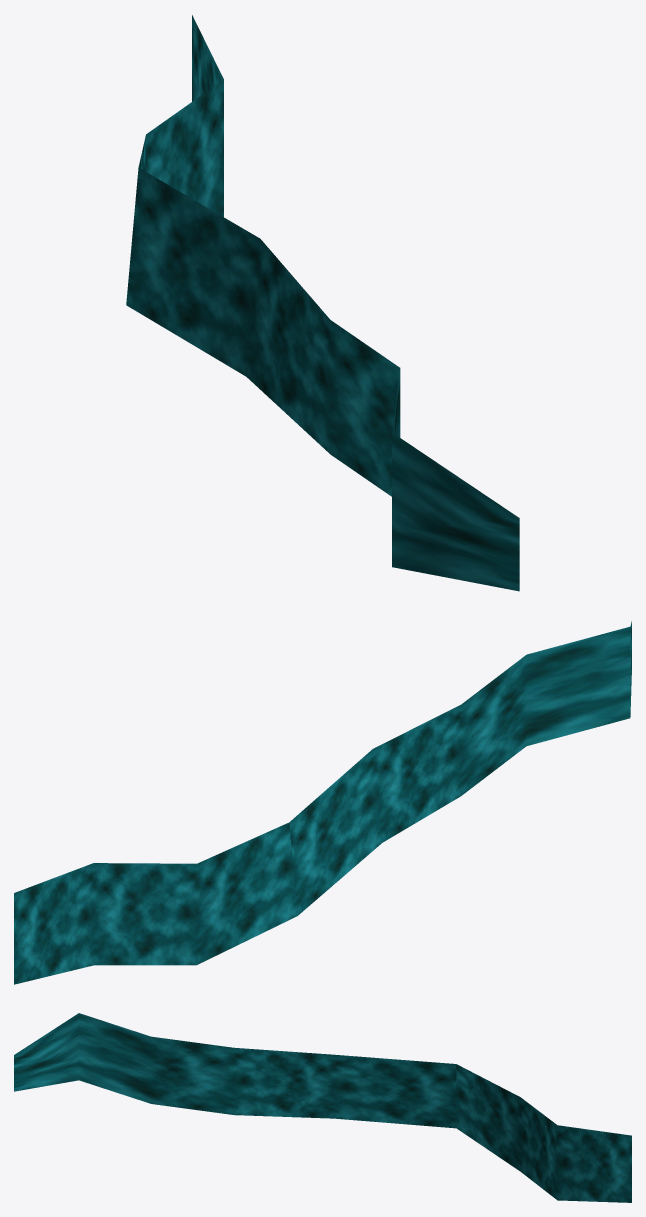
File: MIRKWOOD_FOG_B.fbx
3 views of the same model, one above another, from view 1: azimuth 30°, elevation 25°; view 2: azimuth 150°, elevation 25°; view 3: azimuth 270°, elevation 25° (orthographic). The views are drawn at different scales.
Parts seen in each view (by area): view 1: MIRKWOOD_FOG_B; view 2: MIRKWOOD_FOG_B; view 3: MIRKWOOD_FOG_B.
Boxes of the visible parts, x1=… form: MIRKWOOD_FOG_B: x1=126, y1=15, x2=519, y2=591; MIRKWOOD_FOG_B: x1=14, y1=621, x2=631, y2=984; MIRKWOOD_FOG_B: x1=14, y1=1013, x2=631, y2=1202.
Size of the model in its own units: 227269 by 137517 by 689291.
1 material, 1 textured.
